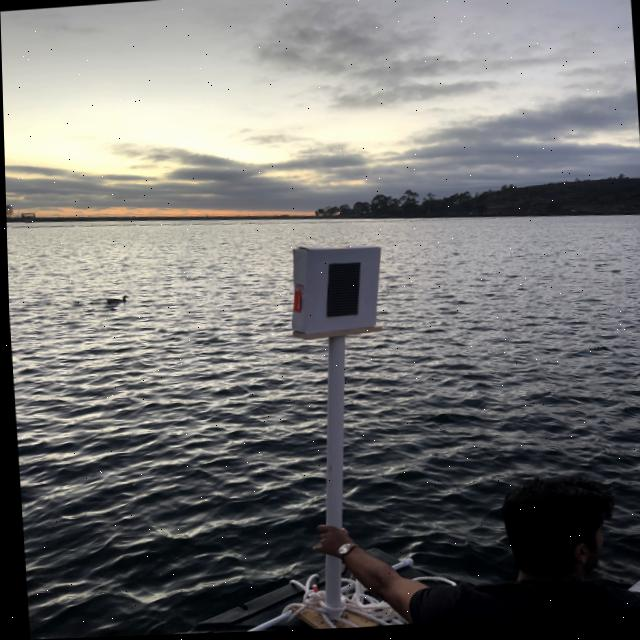led: (304, 248, 376, 339)
